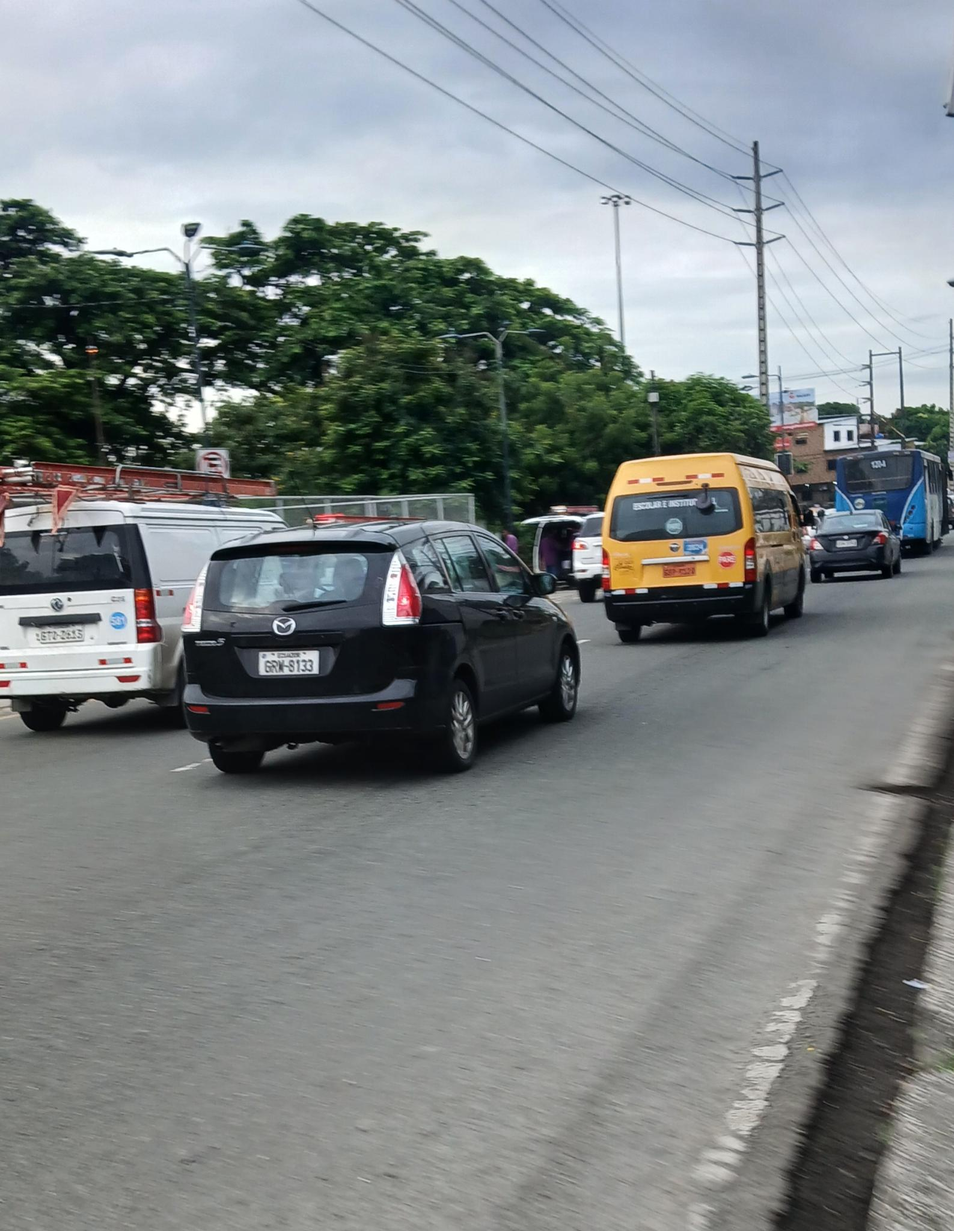license_plate: (258, 651, 321, 675), (32, 624, 85, 644), (662, 564, 697, 577), (835, 538, 859, 548)
